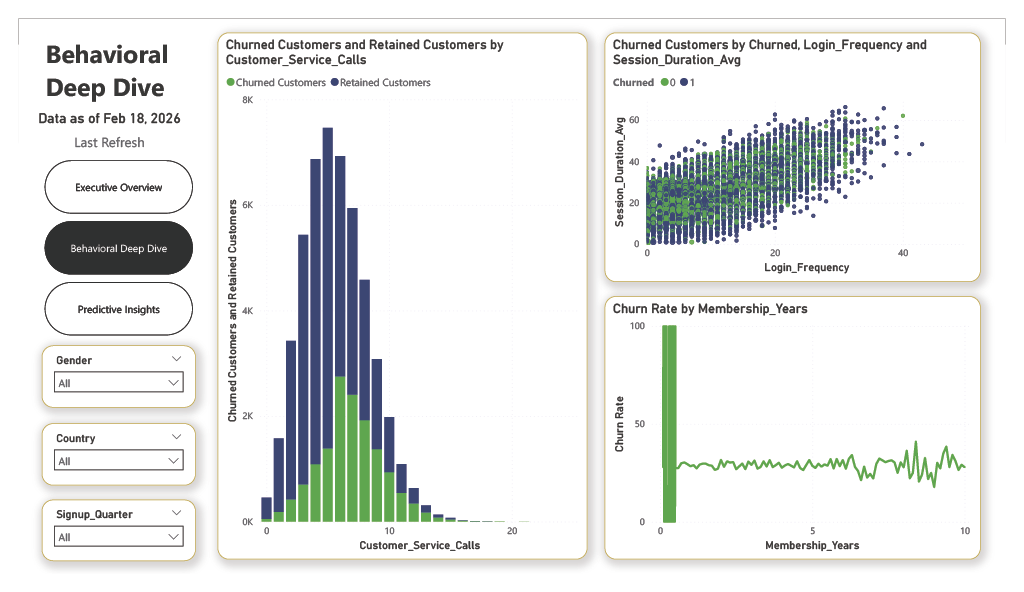

The page's visual inventory and layout, read from the dashboard file:
{"tool":"powerbi","page":{"name":"Behavioral Deep Dive","canvas":[1280,720],"ordinal":1},"visuals":[{"type":"columnChart","fields":{"Category":["ecommerce_customer_churn_dataset_cleaned.Customer_Service_Calls"],"Y":["ecommerce_customer_churn_dataset_cleaned.Churned Customers","ecommerce_customer_churn_dataset_cleaned.Retained Customers"]},"box":[258,18,480,684],"z":0},{"type":"scatterChart","fields":{"X":["ecommerce_customer_churn_dataset_cleaned.Login_Frequency"],"Y":["ecommerce_customer_churn_dataset_cleaned.Session_Duration_Avg"],"Size":["ecommerce_customer_churn_dataset_cleaned.Churned Customers"],"Series":["ecommerce_customer_churn_dataset_cleaned.Churned"]},"box":[760,18,488,324],"z":1000},{"type":"slicer","fields":{"Values":["ecommerce_customer_churn_dataset_cleaned.Gender"]},"box":[30.2,424.1,199.9,80.6],"z":2000},{"type":"slicer","fields":{"Values":["ecommerce_customer_churn_dataset_cleaned.Country"]},"box":[30.2,524.9,199.9,80.6],"z":3000},{"type":"slicer","fields":{"Values":["ecommerce_customer_churn_dataset_cleaned.Signup_Quarter"]},"box":[30.2,624,200,80],"z":4000},{"type":"lineChart","fields":{"Category":["ecommerce_customer_churn_dataset_cleaned.Membership_Years"],"Y":["ecommerce_customer_churn_dataset_cleaned.Churn Rate"]},"box":[760,360,488,342],"z":5000},{"type":"textbox","box":[30,18,200,114],"z":6000},{"type":"card","fields":{"Values":["ecommerce_customer_churn_dataset_cleaned.Last Refresh"]},"box":[18,106,200,70],"z":7000},{"type":"pageNavigator","box":[34,184,192,228],"z":7001}]}

Visuals, with their boxes in screenshot pixels (x1, y1, x2, y2), scaled from the page's 1280x720 canvas onto the 1024x592 screenshot:
columnChart - ecommerce_customer_churn_dataset_cleaned.Customer_Service_Calls x ecommerce_customer_churn_dataset_cleaned.Churned Customers: 206,15,590,577
scatterChart - ecommerce_customer_churn_dataset_cleaned.Login_Frequency x ecommerce_customer_churn_dataset_cleaned.Session_Duration_Avg: 608,15,998,281
slicer - ecommerce_customer_churn_dataset_cleaned.Gender: 24,349,184,415
slicer - ecommerce_customer_churn_dataset_cleaned.Country: 24,432,184,498
slicer - ecommerce_customer_churn_dataset_cleaned.Signup_Quarter: 24,513,184,579
lineChart - ecommerce_customer_churn_dataset_cleaned.Membership_Years x ecommerce_customer_churn_dataset_cleaned.Churn Rate: 608,296,998,577
textbox: 24,15,184,109
card - ecommerce_customer_churn_dataset_cleaned.Last Refresh: 14,87,174,145
pageNavigator: 27,151,181,339
